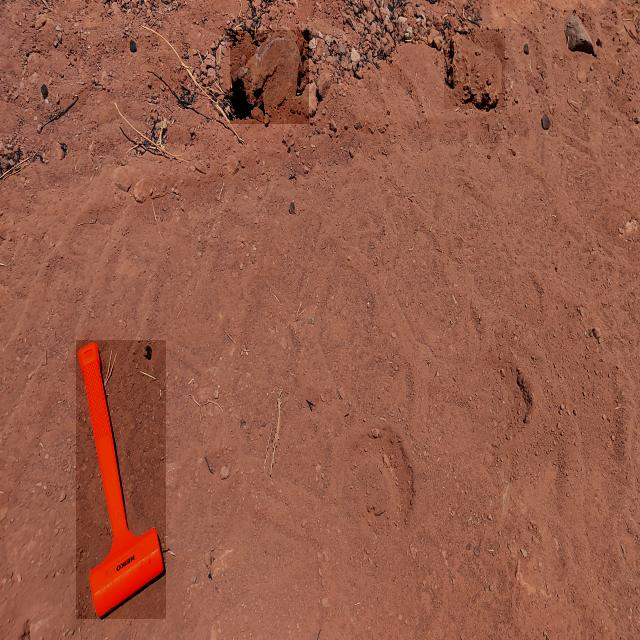Orange_hammer: (76, 340, 166, 619)
rock: (230, 30, 309, 124), (444, 29, 505, 109), (564, 8, 595, 60)
